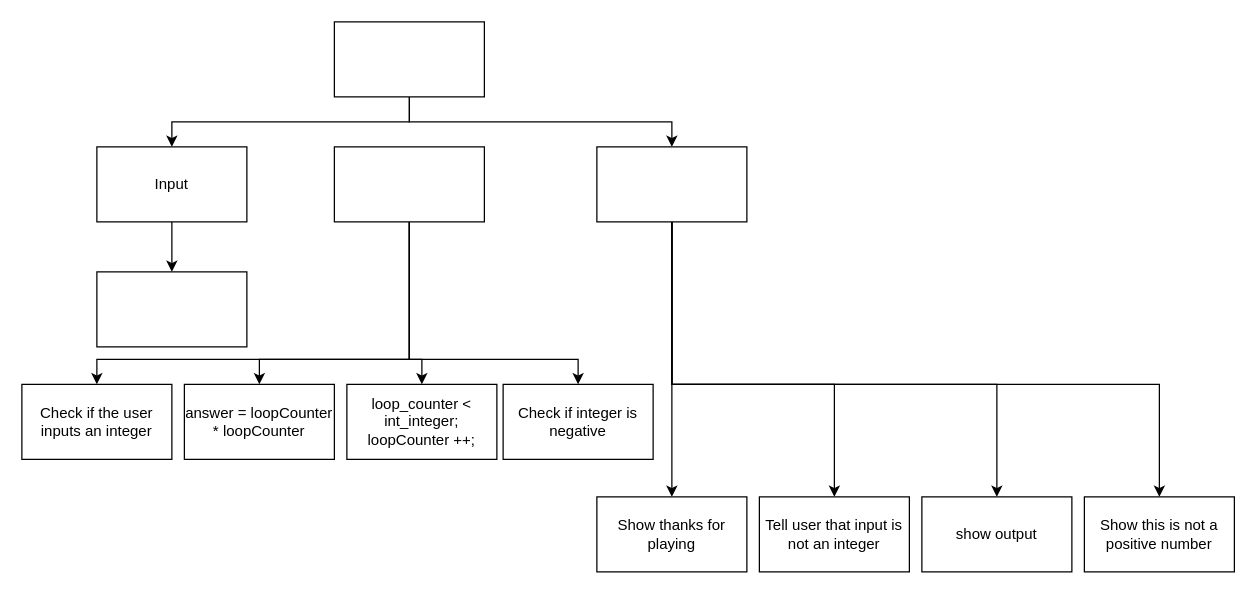
Some shapes in this 1256 by 594 pixel diagram are drawn without their labels. The shapes that lost their labels are listed below. From the top down, each one's centre as x and y in pixels, then its label:
the point at 408,59: Exponents program
the point at 408,184: Process
the point at 671,184: Output
the point at 171,309: Get number from user
